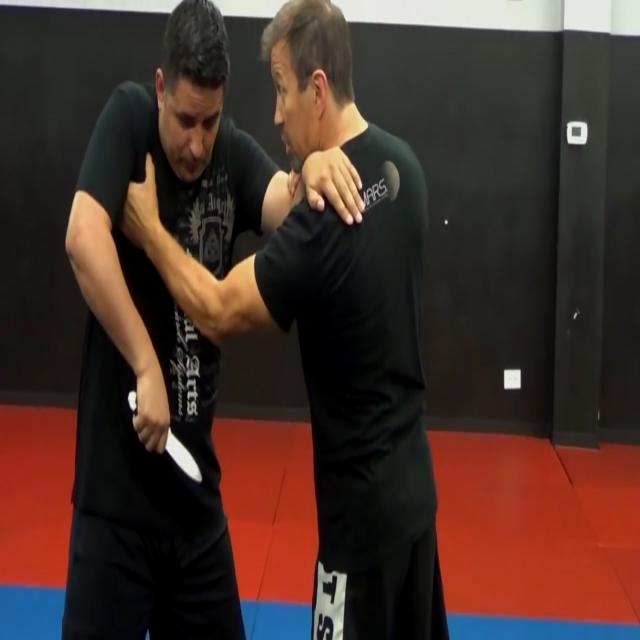knife: (168, 424, 204, 493)
